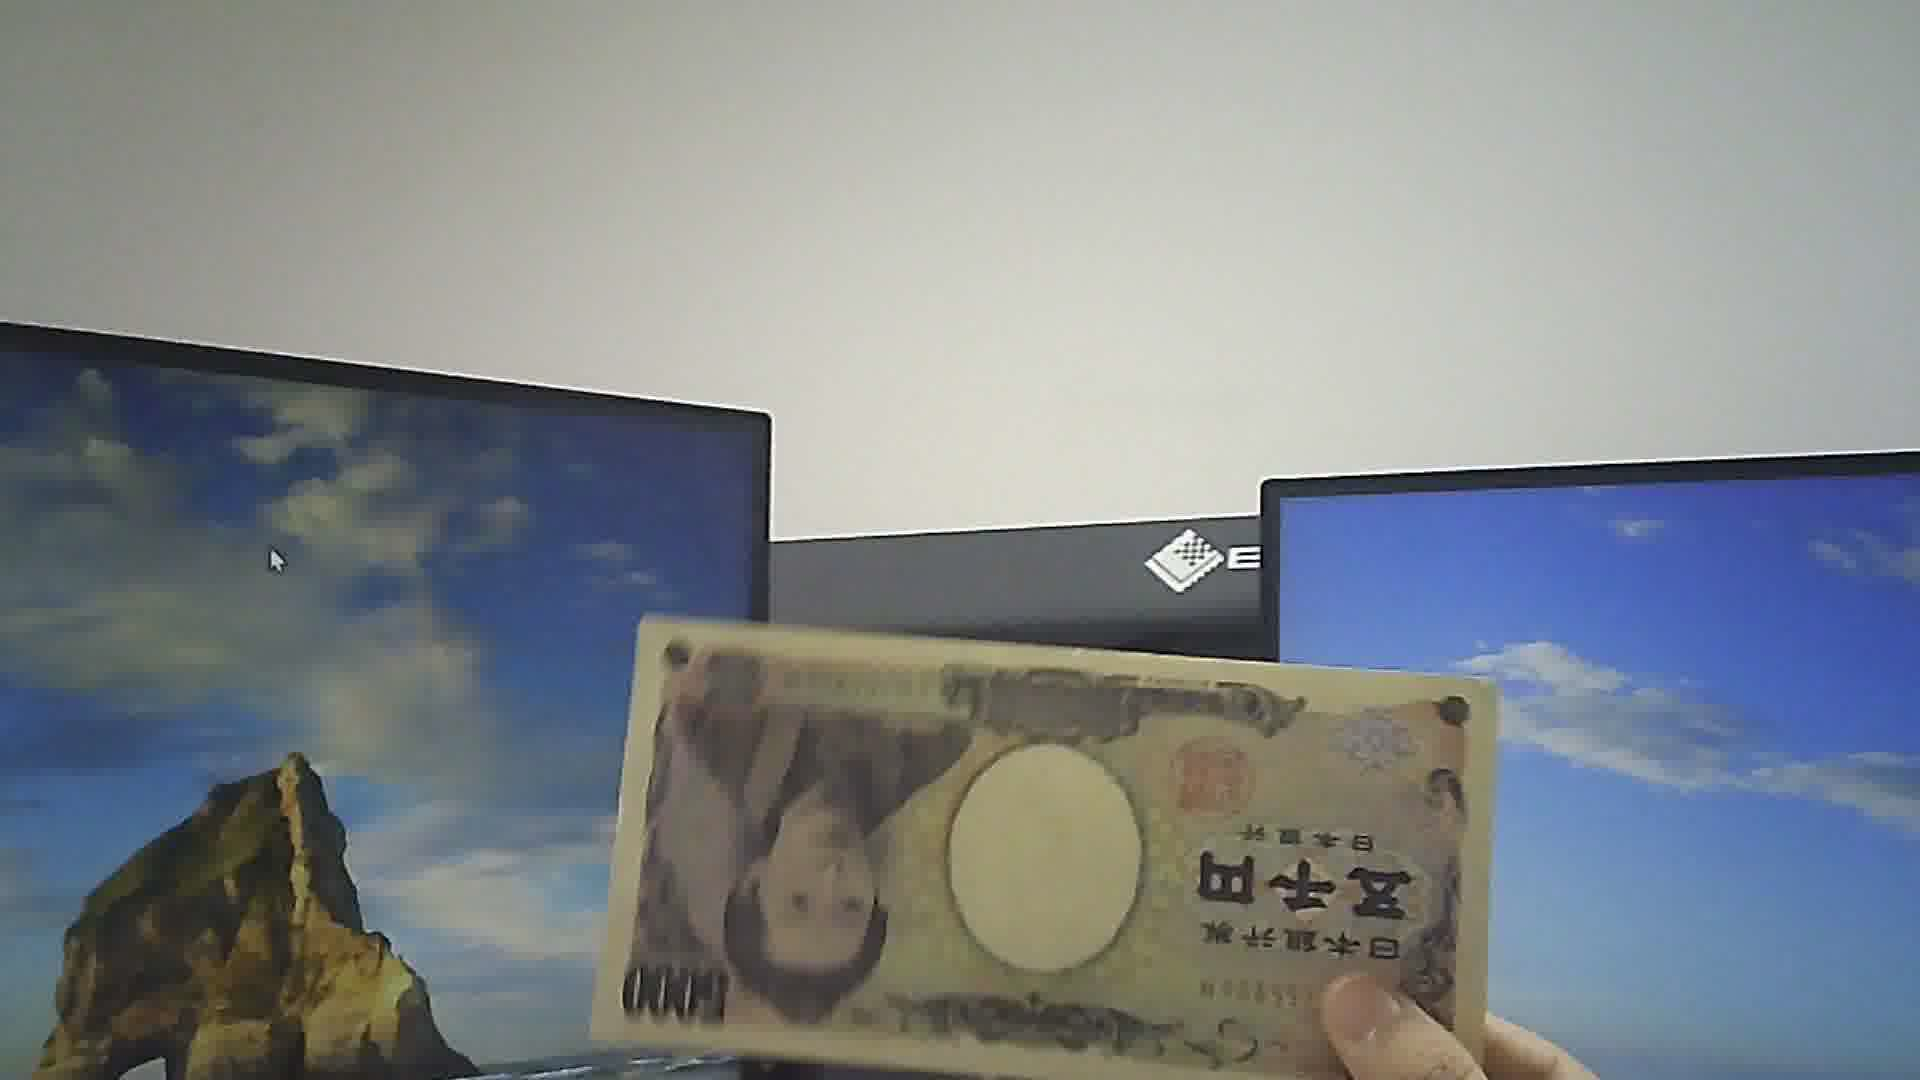5,000 Yen: (593, 601, 1482, 1079)
